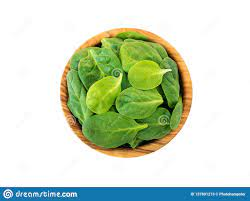spinach: (85, 51, 164, 132)
